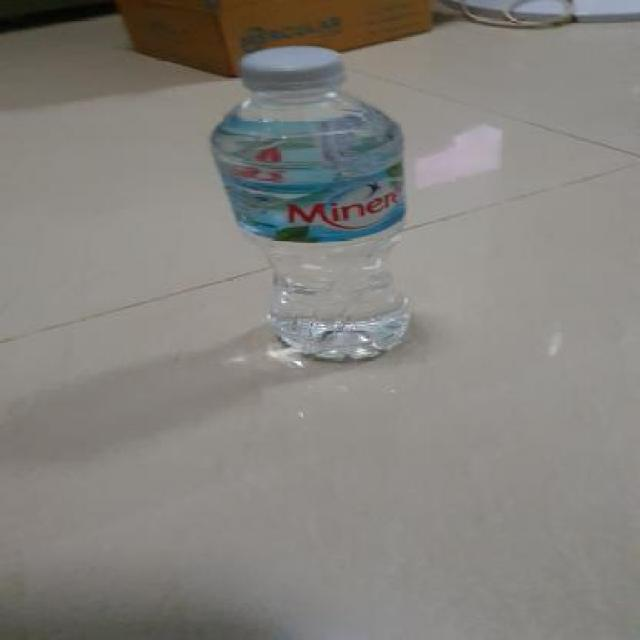bottle: (187, 18, 434, 370)
